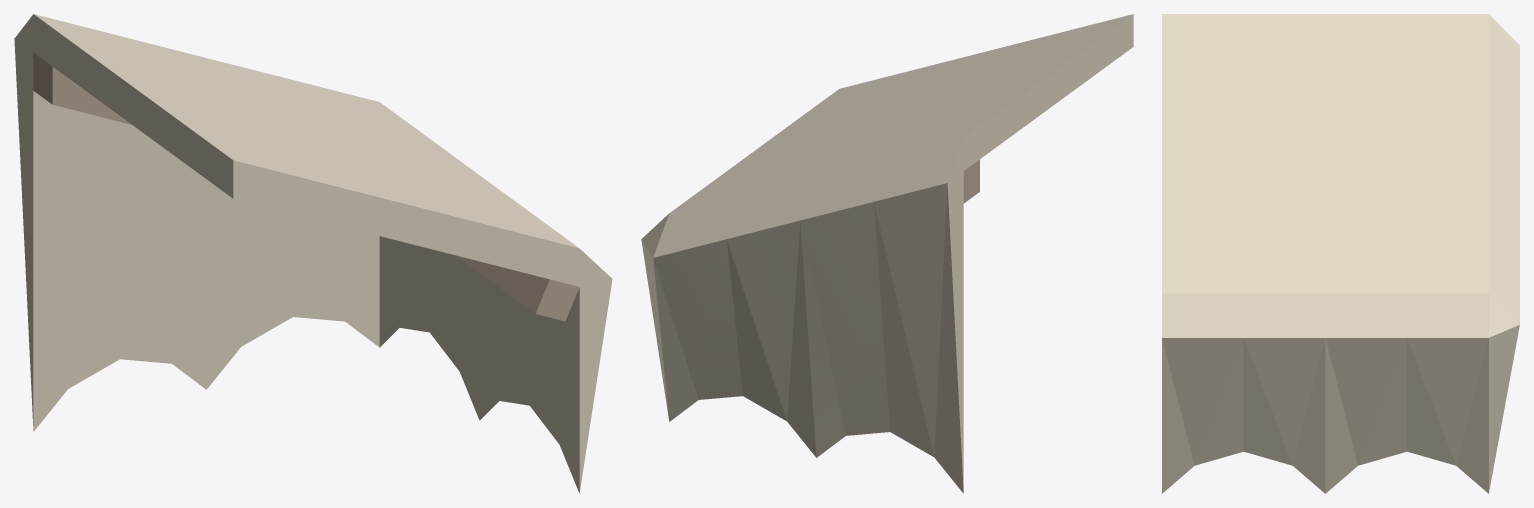
File: Canopy_Ramp_Corner.glb
3 renders of one model, left to right at view 1: azimuth 30°, elevation 25°; view 2: azimuth 150°, elevation 25°; view 3: azimuth 270°, elevation 25°, orthographic. The views are drawn at different scales.
Visible parts, largest first — view 1: object2, object1; view 2: object2, object1; view 3: object2.
Boxes of the visible parts, bbox=[...] form: object2: bbox=[14, 14, 612, 493]; object1: bbox=[33, 53, 579, 321]; object2: bbox=[641, 14, 1133, 493]; object1: bbox=[963, 159, 979, 203]; object2: bbox=[1162, 14, 1519, 493].
Bounding box in the file's own units: 1.15 × 1.21 × 1.15.
